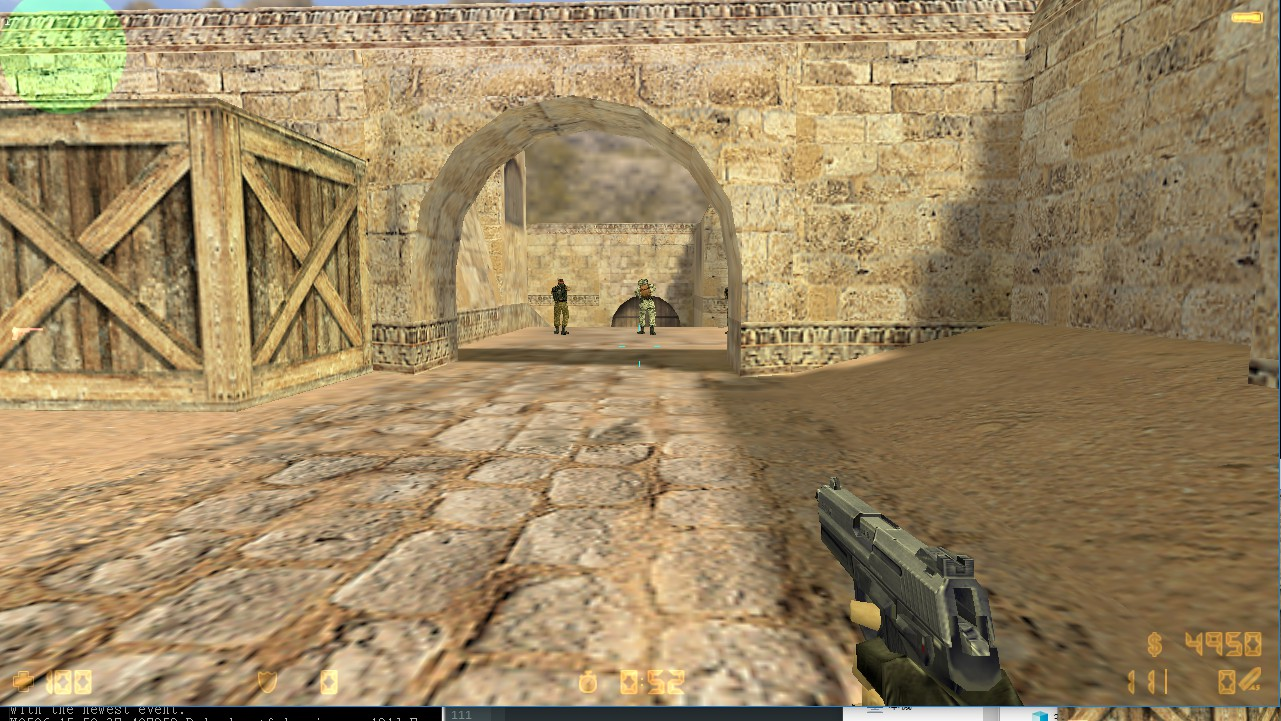person: (629, 273, 662, 340), (548, 274, 574, 339)
